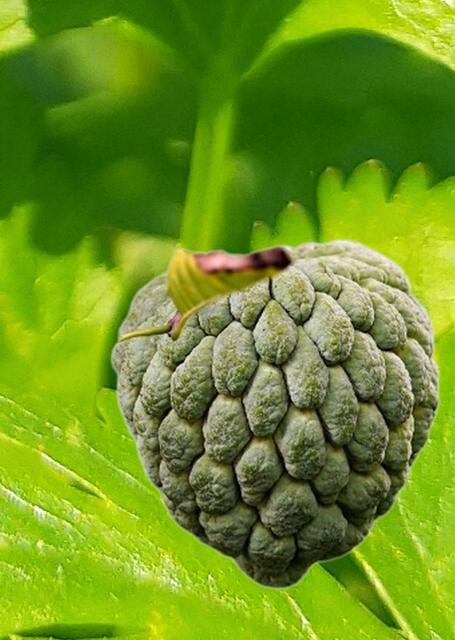atis: (109, 237, 439, 588)
